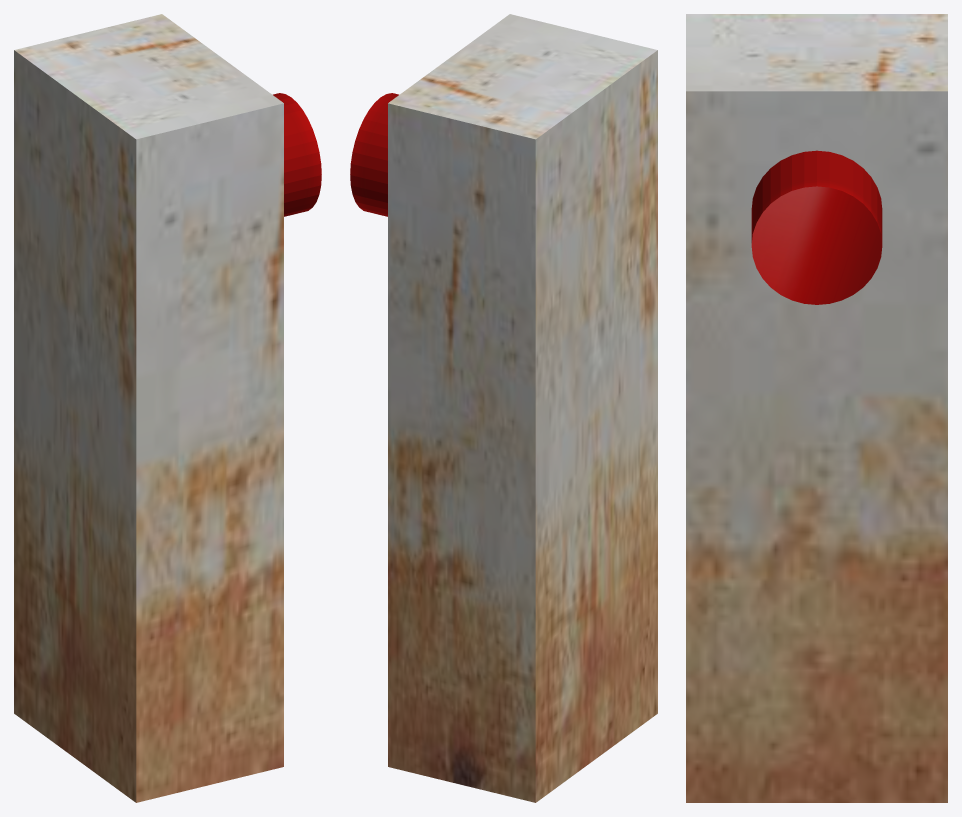
Rendered from Switch Closed.fbx.
3 renders of one model, left to right at view 1: azimuth 30°, elevation 25°; view 2: azimuth 150°, elevation 25°; view 3: azimuth 270°, elevation 25°, orthographic. The views are drawn at different scales.
Visible parts, largest first — view 1: Cube, Cylinder; view 2: Cube, Cylinder; view 3: Cube, Cylinder.
Part boxes in pixels (bbox=[...]): Cube: bbox=[14, 14, 283, 802]; Cylinder: bbox=[273, 93, 321, 216]; Cube: bbox=[388, 14, 657, 802]; Cylinder: bbox=[350, 93, 398, 216]; Cube: bbox=[686, 14, 947, 802]; Cylinder: bbox=[751, 150, 882, 304].
Bounding box in the file's own units: 205 × 600 × 200.
Materials: 2 (2 with a texture image).
